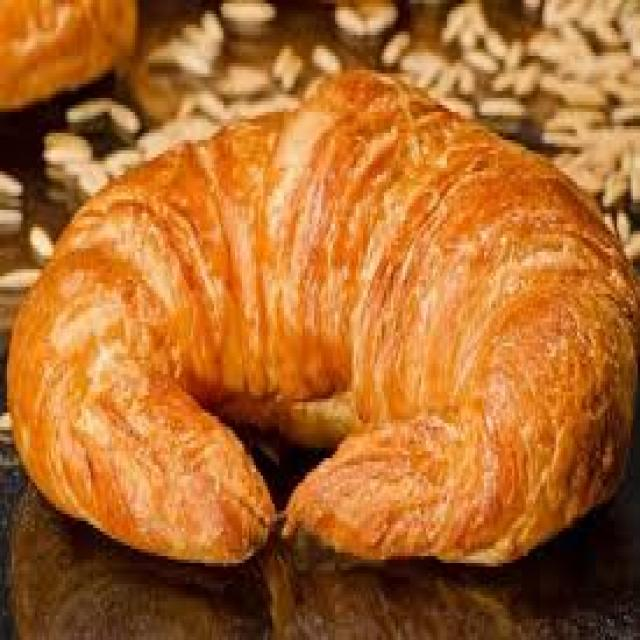food_waste: (7, 70, 635, 560)
